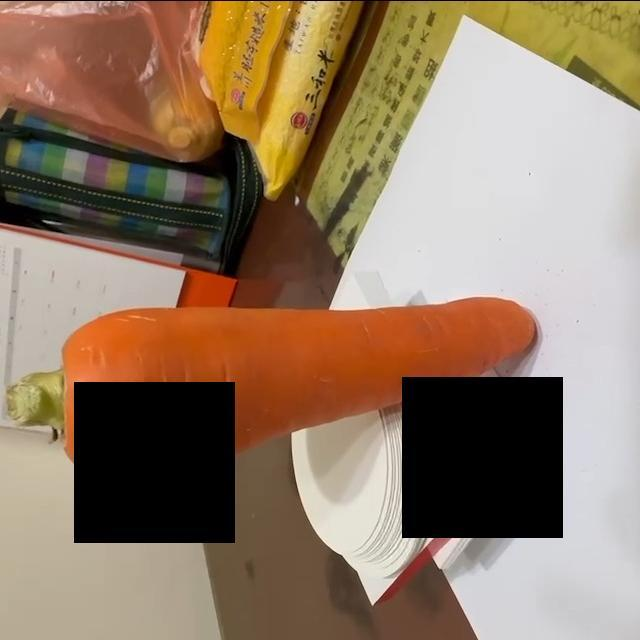carrot: (4, 294, 541, 484)
